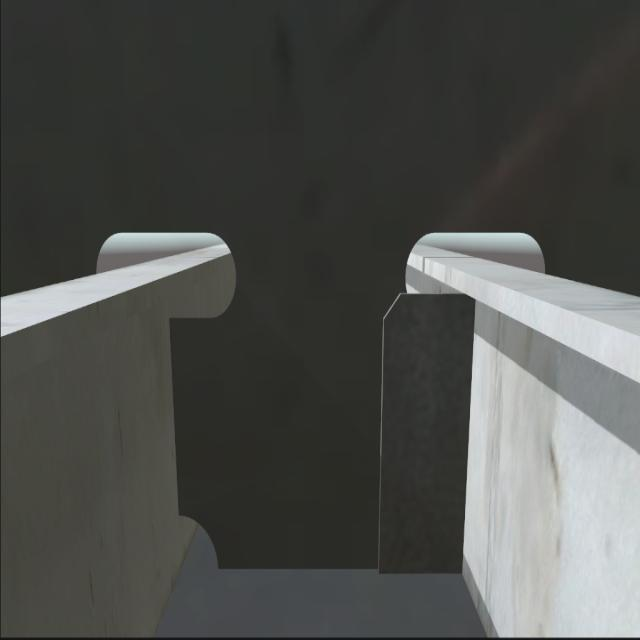fillet_hole: (180, 514, 220, 568)
fillet_yong_jeop_jang: (212, 556, 467, 580)
longi_yong_jeop_jang: (163, 314, 186, 522), (461, 286, 470, 580)
plate_CP03: (376, 290, 469, 572)
